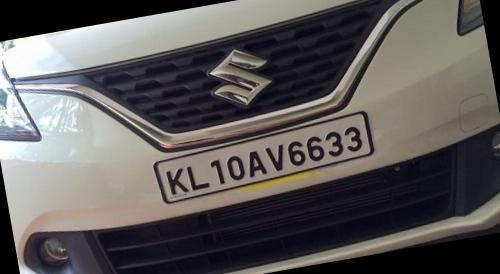plate: (147, 109, 402, 213)
